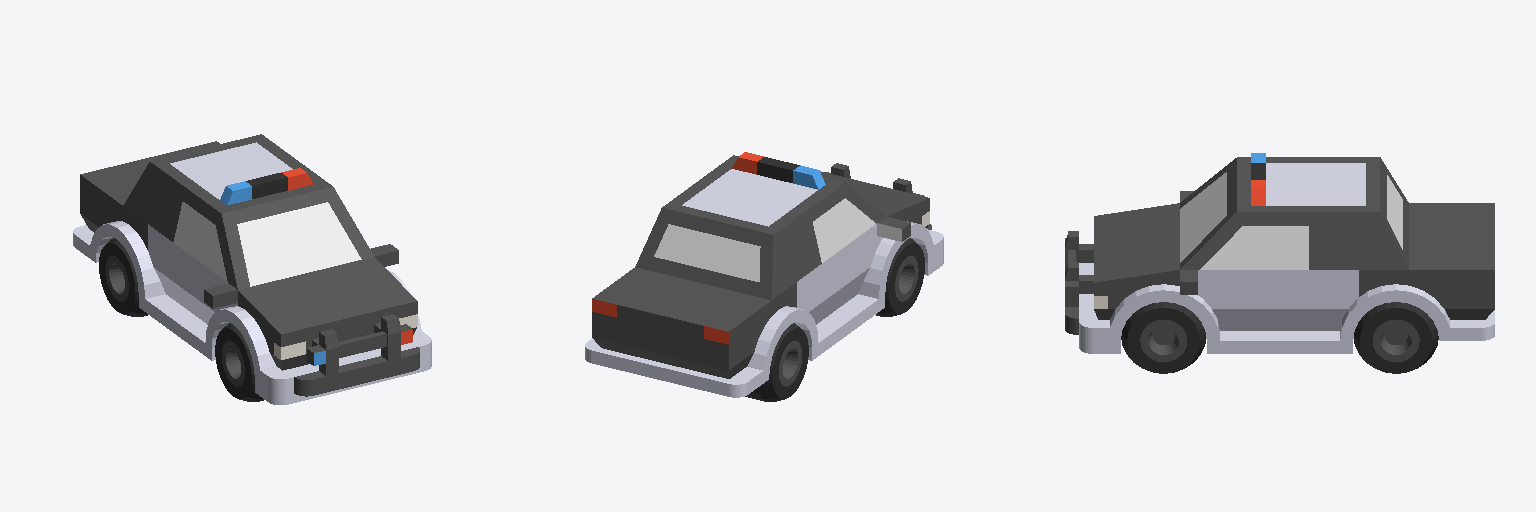
File: police.obj
3 renders of one model, left to right at view 1: azimuth 30°, elevation 25°; view 2: azimuth 150°, elevation 25°; view 3: azimuth 270°, elevation 25°, orthographic.
Visible parts, largest first — view 1: body, grill, wheel_backRight, wheel_frontRight; view 2: body, wheel_backRight, wheel_frontRight; view 3: body, wheel_backLeft, wheel_frontLeft, grill.
Boxes of the visible parts, x1=… form: body: x1=73, y1=134, x2=431, y2=404; grill: x1=294, y1=314, x2=419, y2=396; wheel_backRight: x1=99, y1=238, x2=147, y2=316; wheel_frontRight: x1=215, y1=323, x2=263, y2=401; body: x1=585, y1=152, x2=943, y2=397; wheel_backRight: x1=745, y1=323, x2=808, y2=401; wheel_frontRight: x1=876, y1=238, x2=924, y2=316; body: x1=1079, y1=153, x2=1494, y2=353; wheel_backLeft: x1=1354, y1=302, x2=1438, y2=373; wheel_frontLeft: x1=1121, y1=302, x2=1205, y2=373; grill: x1=1065, y1=231, x2=1093, y2=334.
Size of the model in its own units: 59.06 by 51.18 by 118.